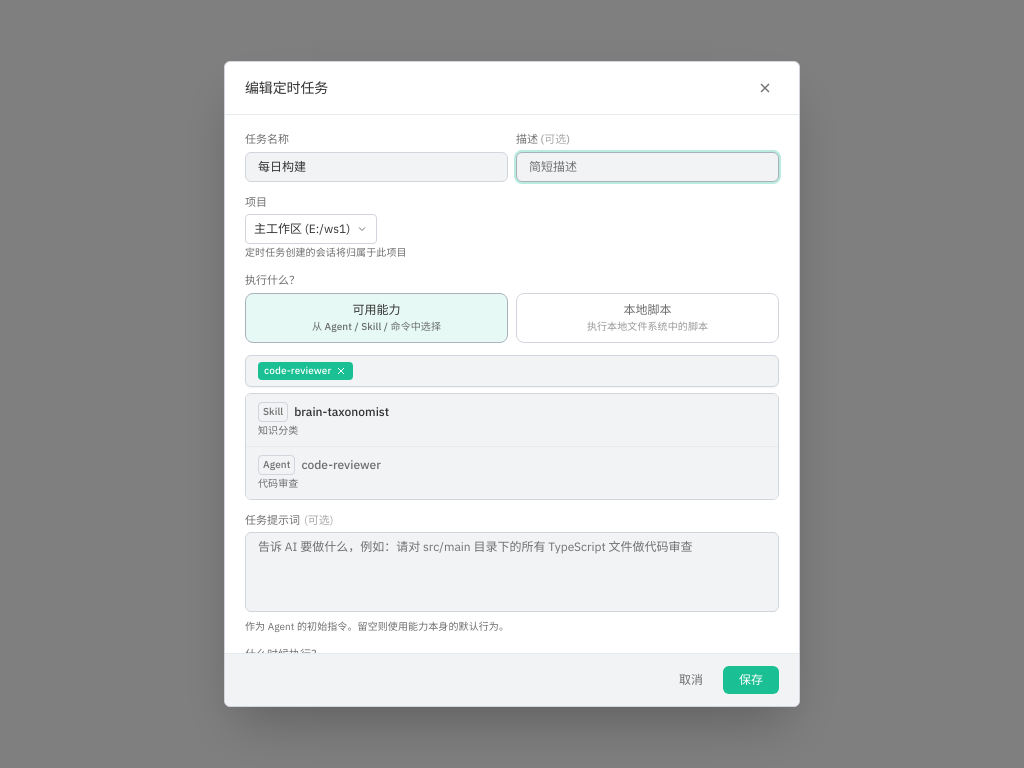
Test case: 错误提示可被读屏软件播报（H6） › 本地校验失败同样落在同一处 live region 上
Expected: the text "code-reviewer" is shown, x1=258 y1=362 x2=353 y2=380
Clear the field labelled "任务名称" at (376, 167), box x1=245 y1=152 x2=508 y2=182
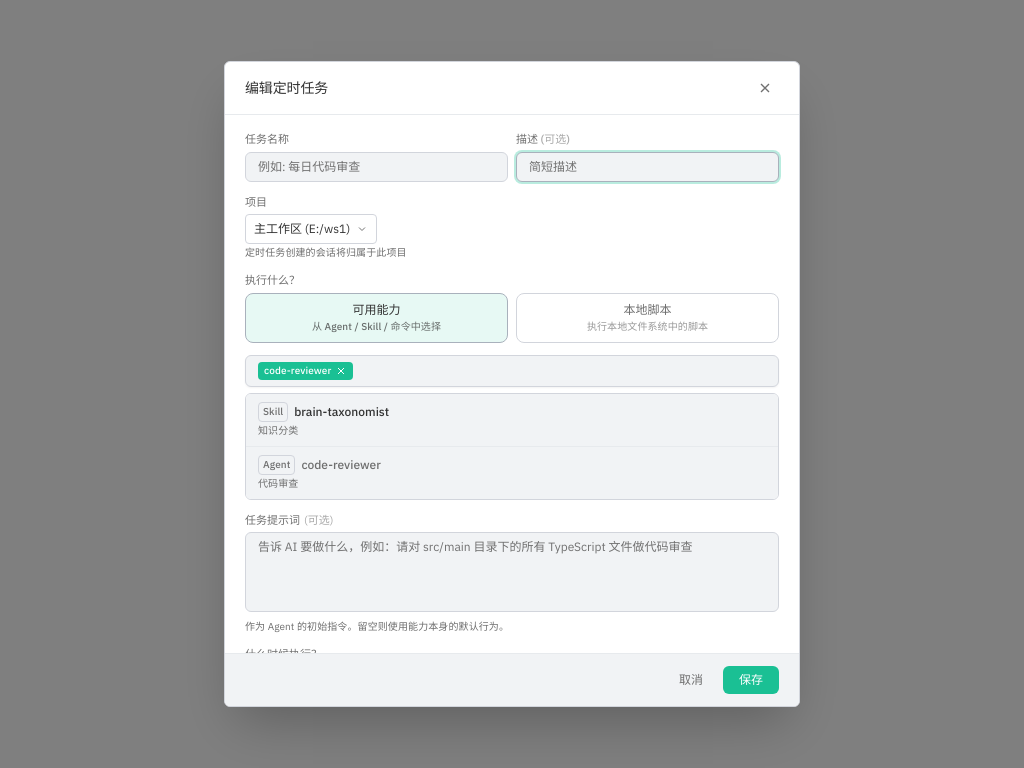
Click the button "保存" at (751, 680), box x1=723 y1=666 x2=779 y2=694
(page scrolled)
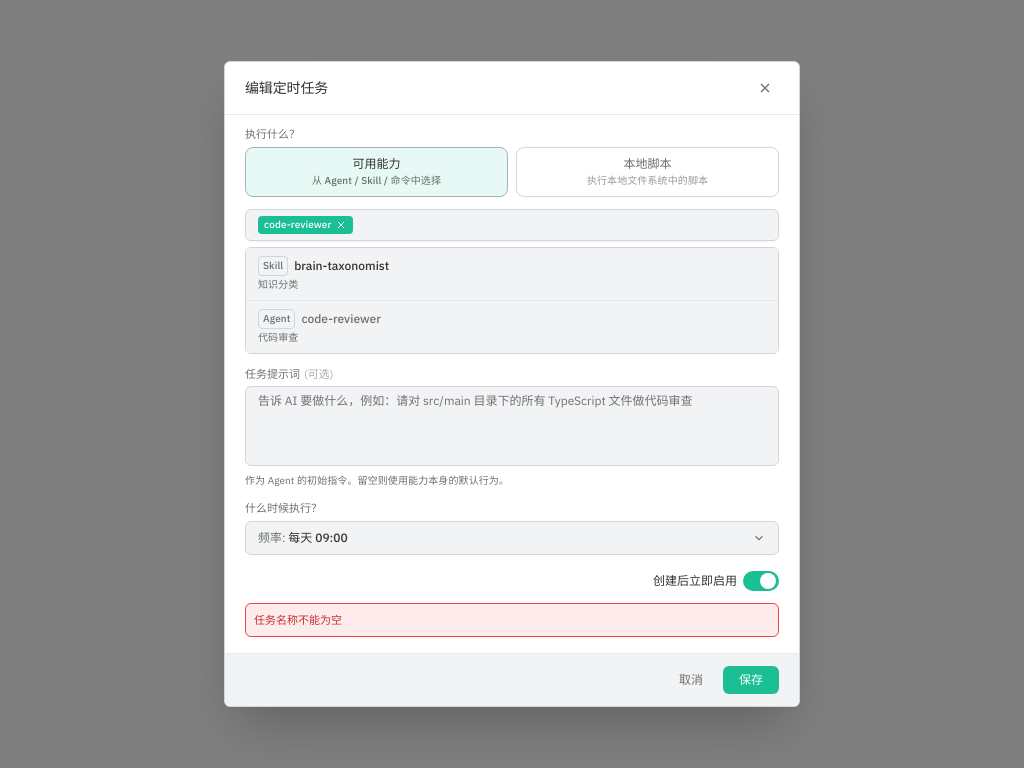
Now the number of messages is 1, box x1=245 y1=603 x2=779 y2=637
Now the message "任务名称不能为空" is shown, box x1=245 y1=603 x2=779 y2=637
